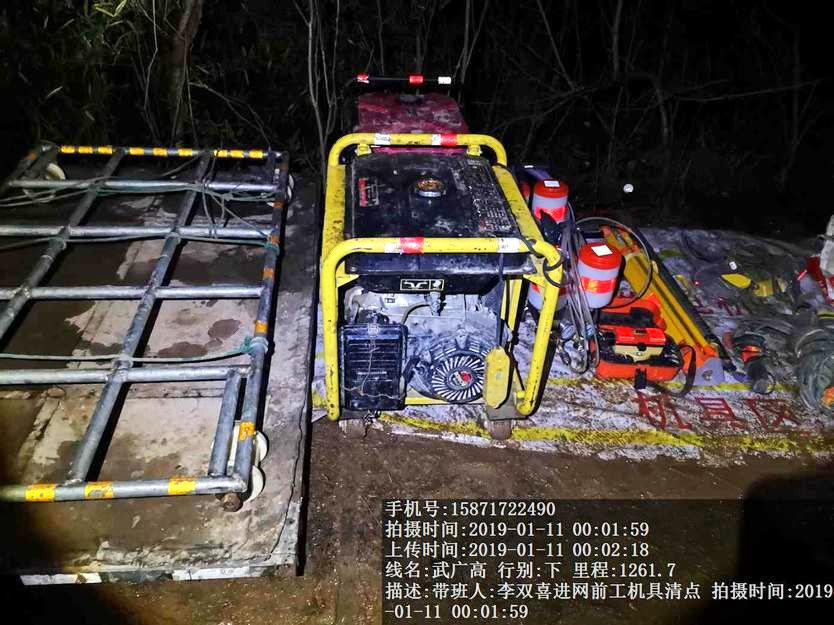DJ: (310, 145, 552, 428)
